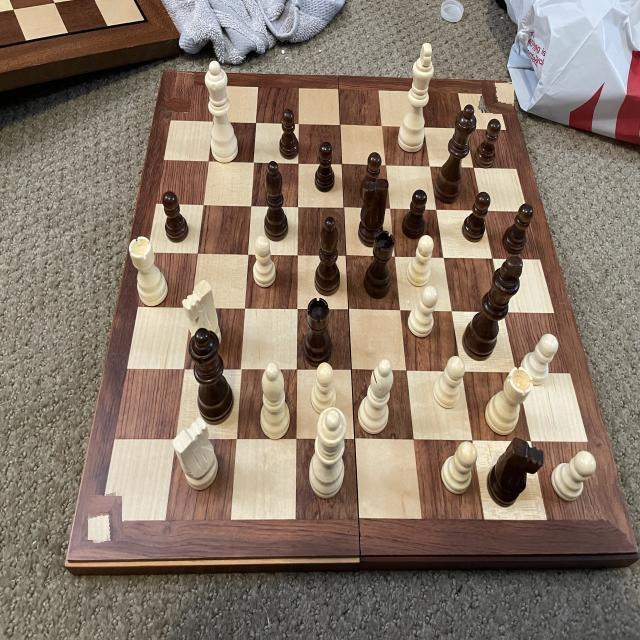chess-table-corners: (586, 484, 626, 544), (86, 494, 124, 541), (162, 70, 194, 112), (480, 81, 514, 114)
